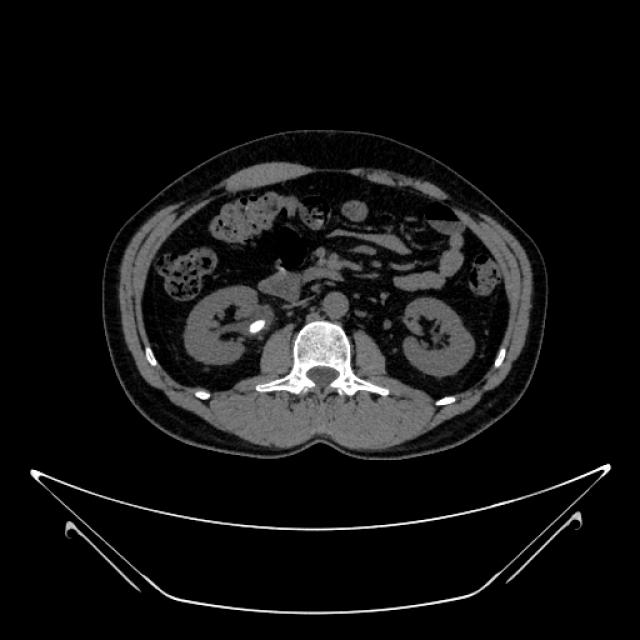kidney: (185, 284, 272, 364), (405, 299, 471, 378)
stone: (249, 317, 268, 334)
